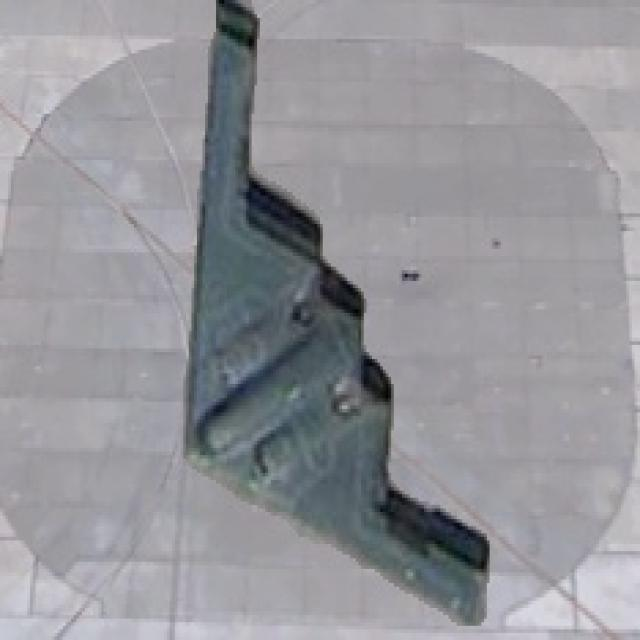B-2_TopDown: (178, 0, 492, 626)
